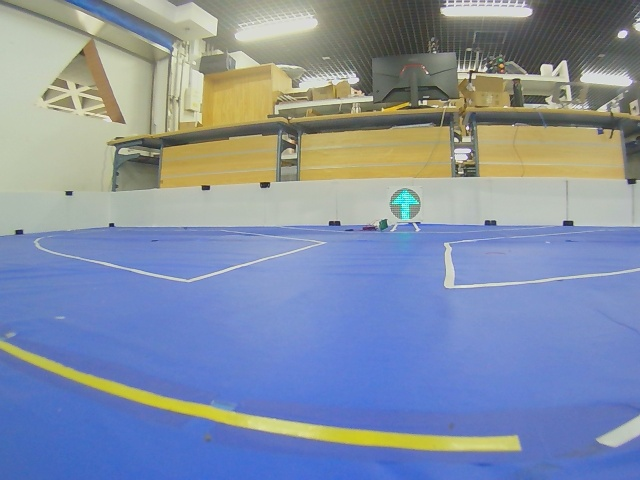straight_green: (389, 188, 421, 222)
